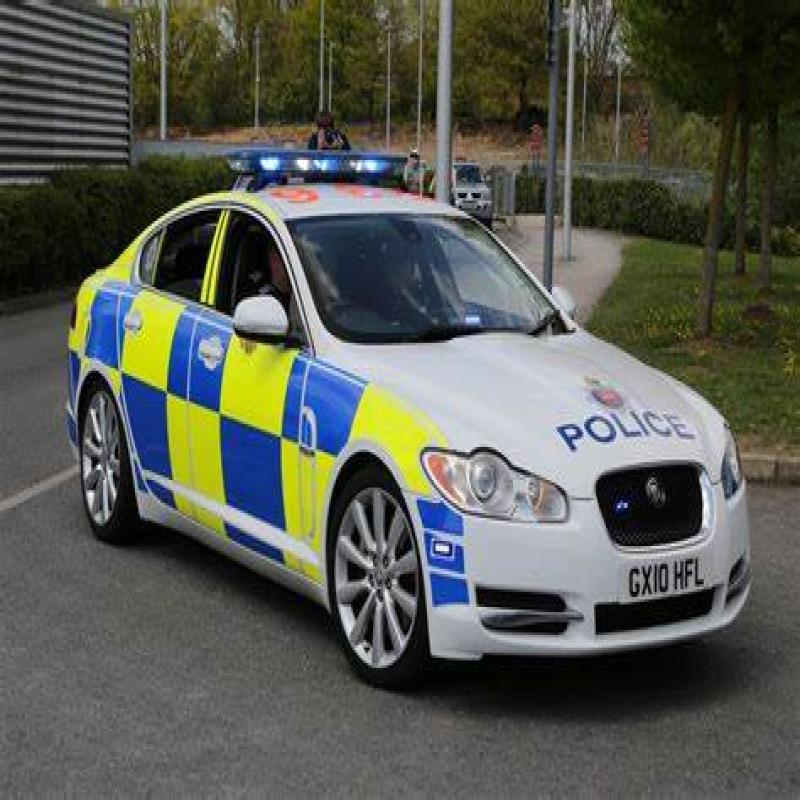AmbulanceSiren: (219, 127, 401, 205)
